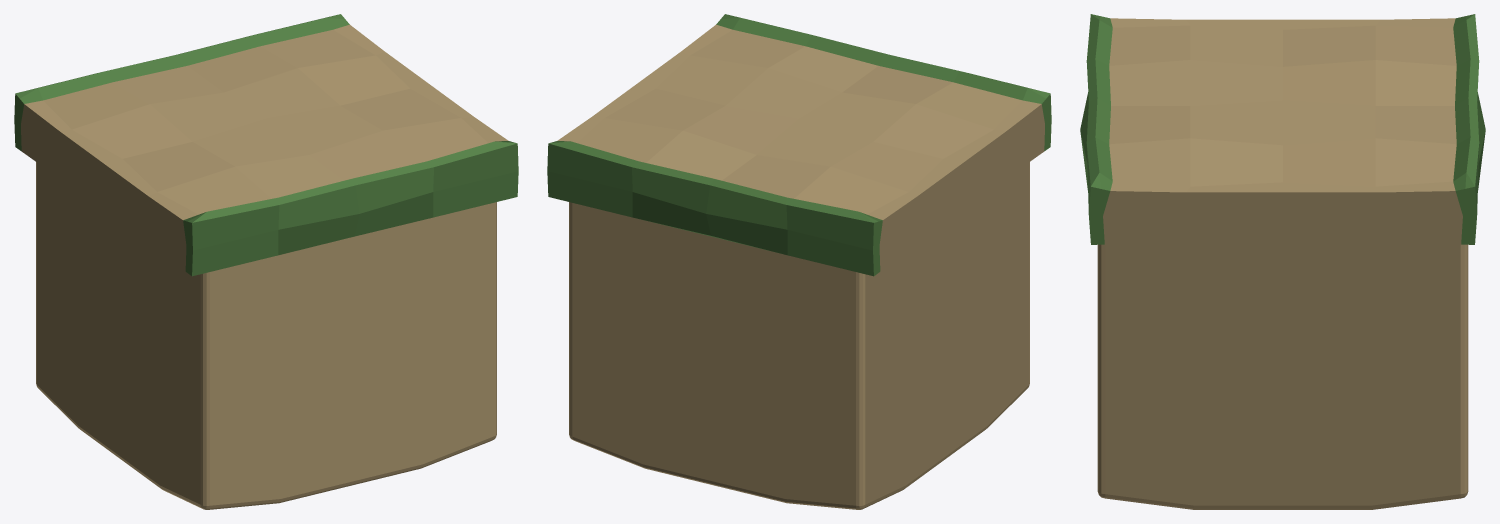
File: env_camino_4x4.fbx
The picture shows the model from 3 angles, left to right: view 1: azimuth 30°, elevation 25°; view 2: azimuth 150°, elevation 25°; view 3: azimuth 270°, elevation 25°; orthographic projection. The views are drawn at different scales.
Visible parts, largest first — view 1: env_suelo_camino.001; view 2: env_suelo_camino.001; view 3: env_suelo_camino.001.
Boxes of the visible parts, x1,y1,x2,y2 form: env_suelo_camino.001: (14, 14, 518, 509); env_suelo_camino.001: (547, 14, 1051, 509); env_suelo_camino.001: (1080, 14, 1485, 509).
Size of the model in its own units: 8 by 7.3 by 7.94.
